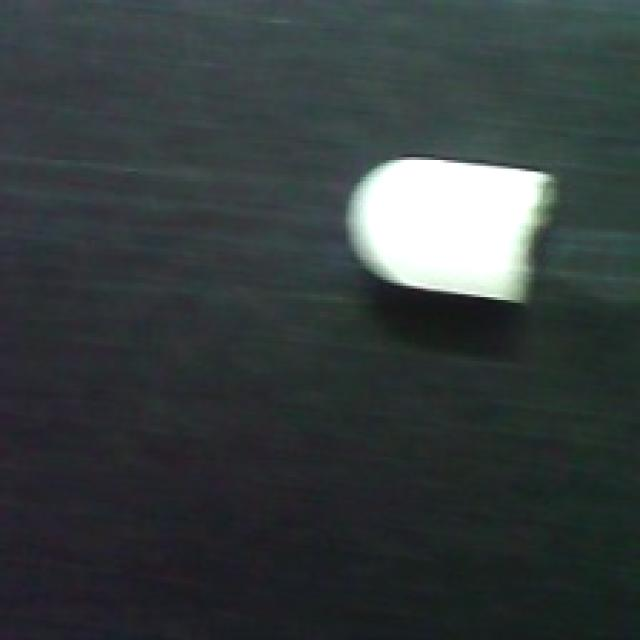defected: (337, 146, 569, 306)
